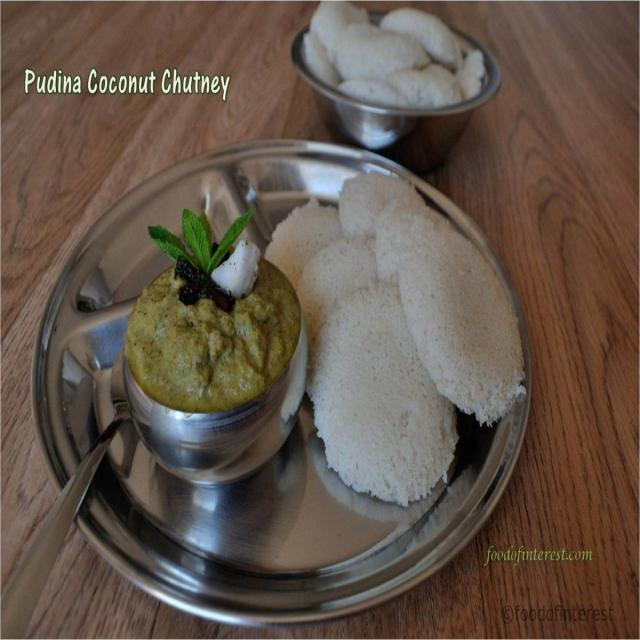idly: (308, 283, 456, 505), (398, 228, 525, 423), (305, 0, 493, 110), (297, 237, 377, 344), (264, 198, 341, 302), (375, 200, 444, 281), (339, 173, 423, 236)
puthina chutney: (118, 262, 302, 424)
